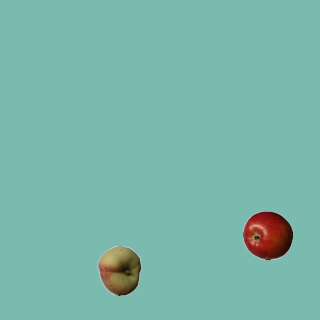Apple Braeburn: (242, 210, 292, 260)
Peach Flat: (94, 245, 144, 295)
